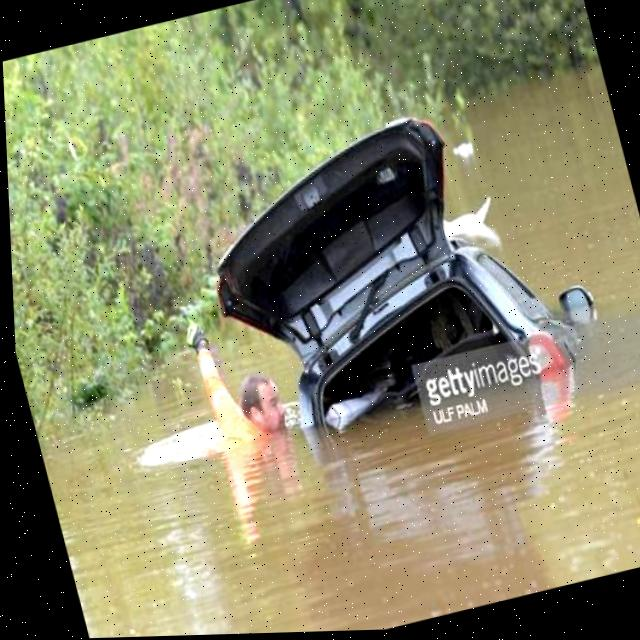civilian: (151, 283, 321, 498)
